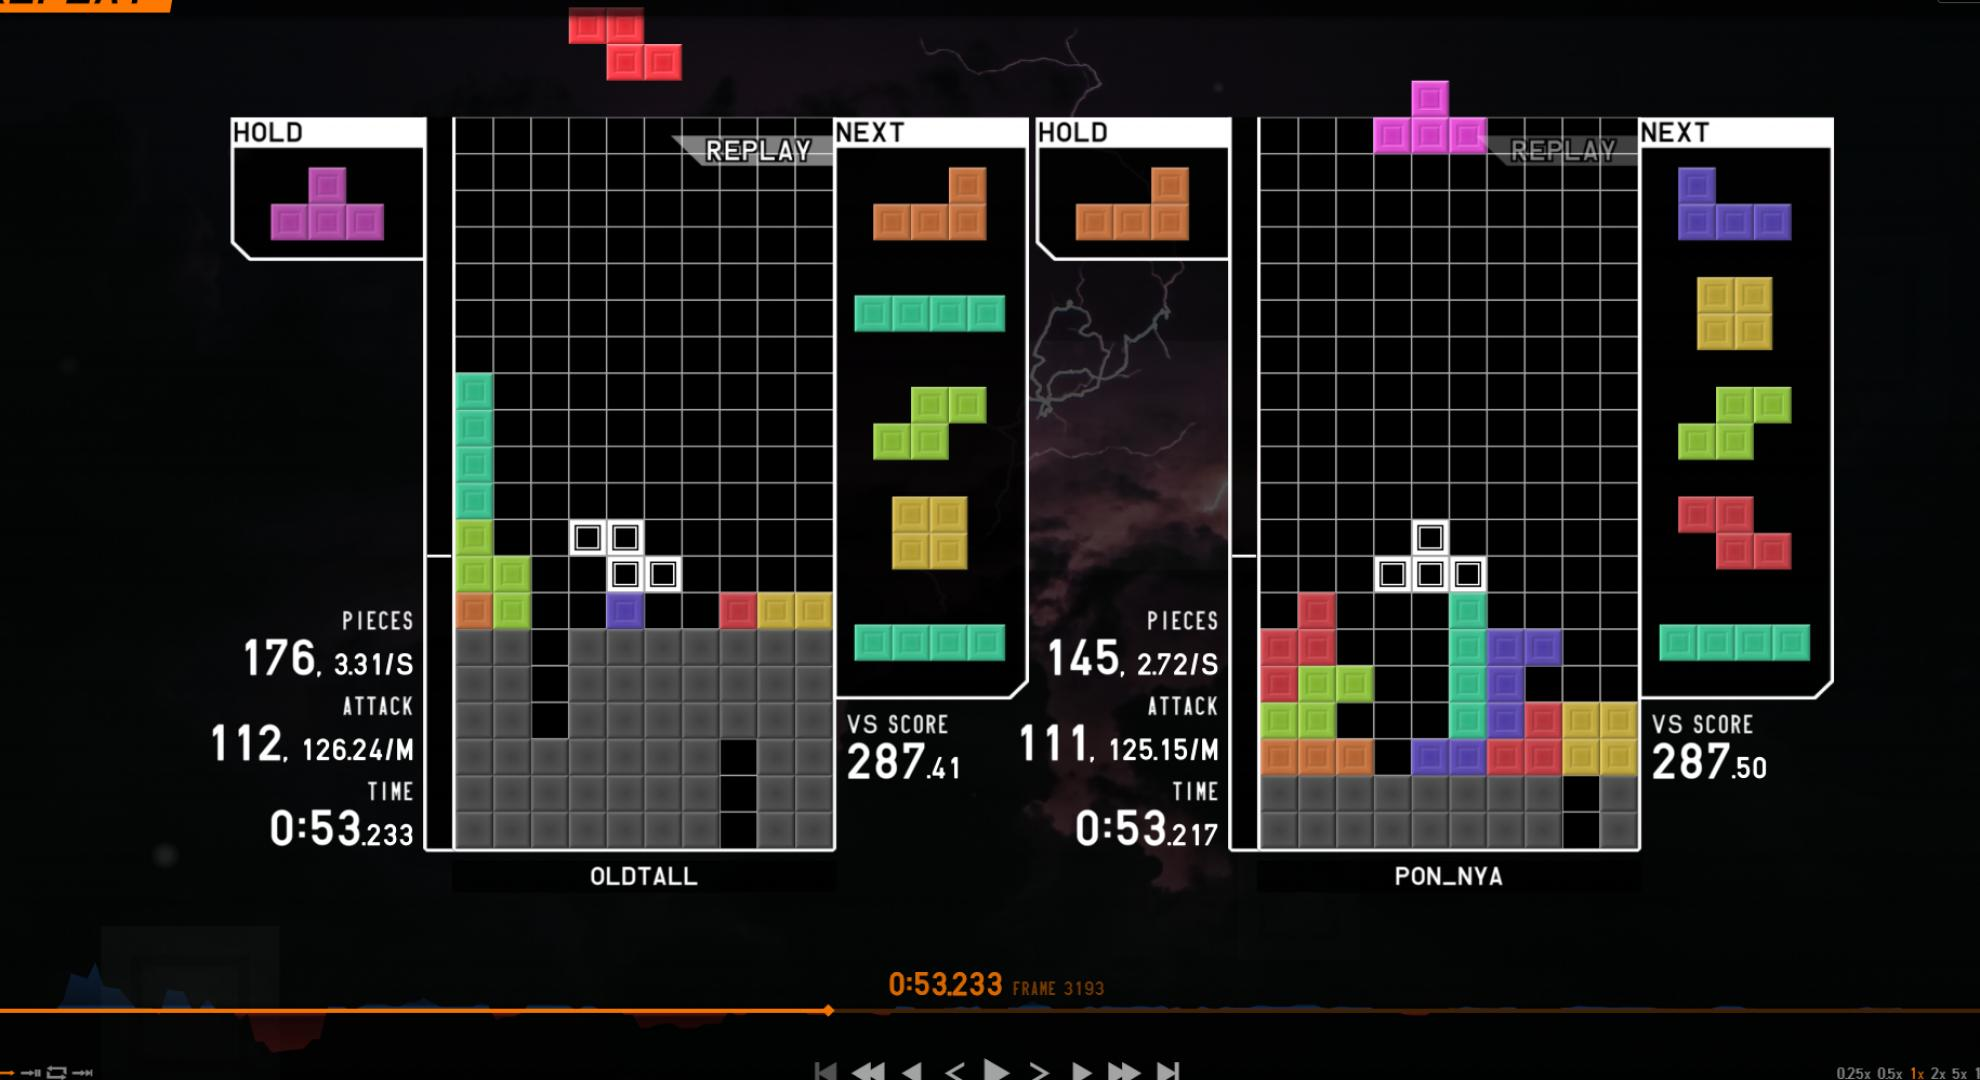tspin: (1331, 660, 1452, 775)
